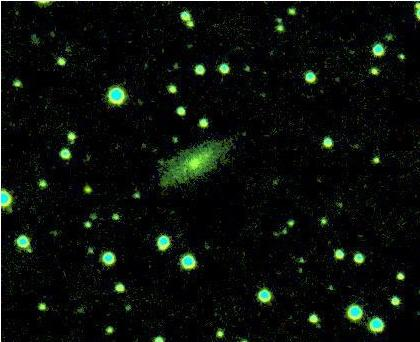star: (74, 171, 104, 201)
